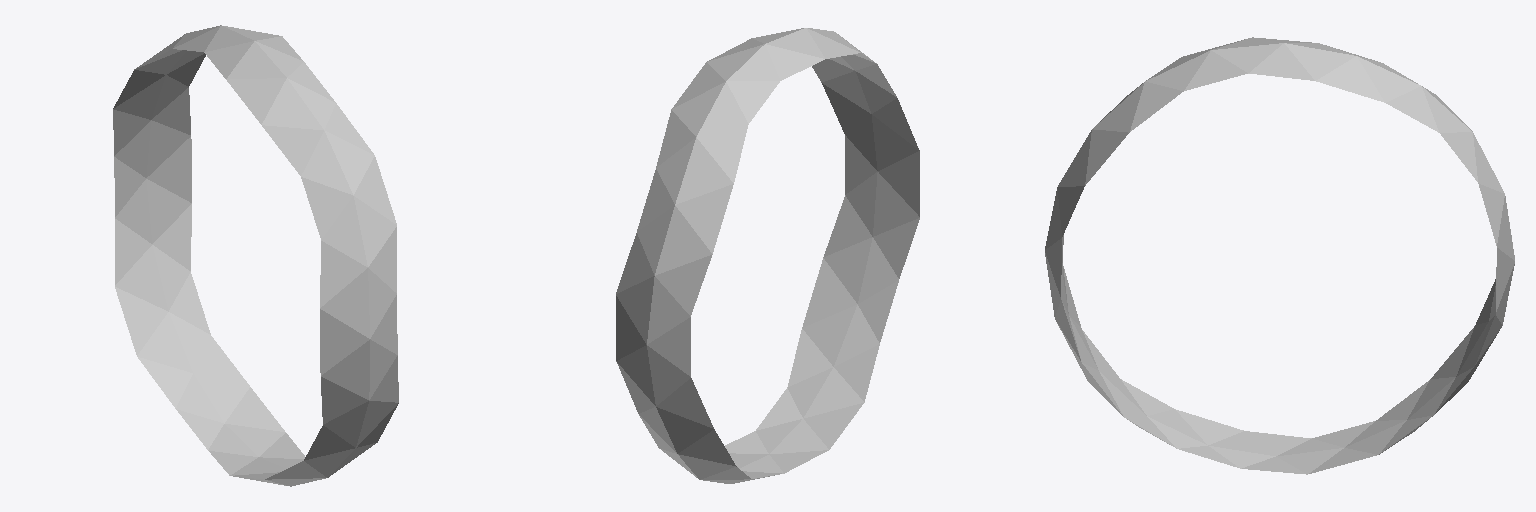
Rendered from Middle.obj.
3 views of the same model, side by side, from view 1: azimuth 30°, elevation 25°; view 2: azimuth 150°, elevation 25°; view 3: azimuth 270°, elevation 25° (orthographic).
Parts seen in each view (by area): view 1: Middle_step-one.002; view 2: Middle_step-one.002; view 3: Middle_step-one.002.
Boxes of the visible parts, box(x1,y1,x2,y2) form: Middle_step-one.002: box(113, 25, 398, 486); Middle_step-one.002: box(616, 28, 919, 483); Middle_step-one.002: box(1045, 37, 1514, 474).
Bounding box in the file's own units: 1.02 × 4.72 × 4.72.